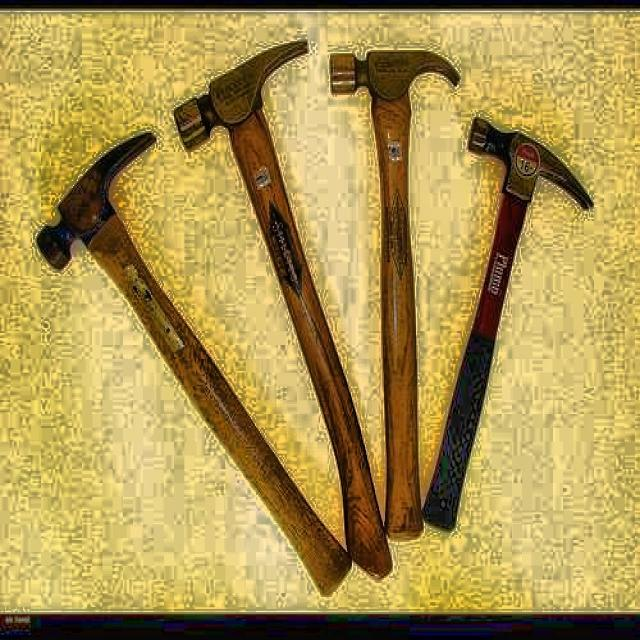hammer: (35, 132, 351, 604), (173, 37, 393, 579), (422, 115, 594, 533), (329, 46, 462, 542)
